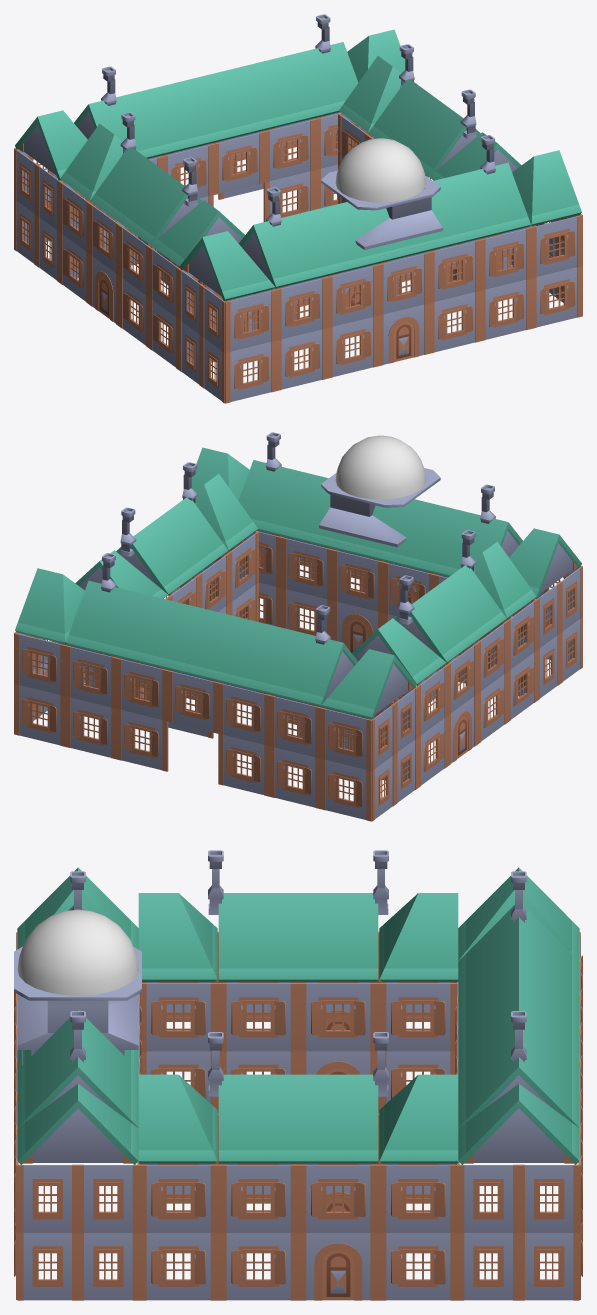
Rendered from london_bld_university.glb.
The picture shows the model from 3 angles, top to bottom: view 1: azimuth 30°, elevation 25°; view 2: azimuth 150°, elevation 25°; view 3: azimuth 270°, elevation 25°; orthographic projection. The views are drawn at different scales.
Parts seen in each view (by area): view 1: wall-window-shutters (×35), roof-gable (×14), roof-gable-end (×8), dome, wall-door (×2), observatory_masonry_plinth, observatory_cornice, door; view 2: wall-window-shutters (×38), roof-gable (×14), roof-gable-end (×8), dome, observatory_masonry_plinth, wall-door (×2), observatory_cornice, door; view 3: wall-window-shutters (×22), roof-gable (×11), roof-gable-end (×8), dome, wall-door (×2), observatory_masonry_plinth, observatory_cornice, door.
Part boxes in pixels (x1,y1,x2,y2): wall-window-shutters (×35): [14, 113, 582, 403]; roof-gable (×14): [74, 42, 530, 288]; roof-gable-end (×8): [15, 29, 581, 300]; dome: [335, 138, 426, 202]; wall-door (×2): [89, 254, 429, 365]; observatory_masonry_plinth: [355, 197, 442, 256]; observatory_cornice: [321, 170, 440, 210]; door: [394, 322, 413, 362]; wall-window-shutters (×38): [14, 531, 582, 821]; roof-gable (×14): [66, 460, 522, 706]; roof-gable-end (×8): [15, 447, 581, 718]; dome: [335, 435, 426, 499]; observatory_masonry_plinth: [319, 494, 406, 553]; wall-door (×2): [332, 601, 477, 765]; observatory_cornice: [321, 468, 440, 507]; door: [347, 619, 367, 652]; wall-window-shutters (×22): [17, 983, 579, 1300]; roof-gable (×11): [17, 893, 579, 1163]; roof-gable-end (×8): [17, 867, 579, 1164]; dome: [17, 909, 138, 995]; wall-door (×2): [298, 1051, 378, 1300]; observatory_masonry_plinth: [17, 994, 138, 1065]; observatory_cornice: [14, 946, 141, 1000]; door: [322, 1250, 354, 1300].
Size of the model in its own units: 20.25 by 10.75 by 20.65.
Materials: 7 (6 with a texture image).
